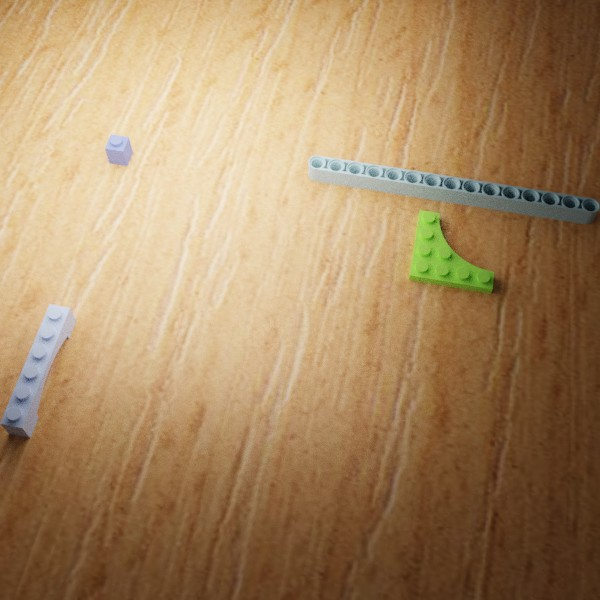lego: (308, 155, 600, 224), (0, 304, 76, 438), (408, 210, 494, 293), (104, 134, 133, 166)
